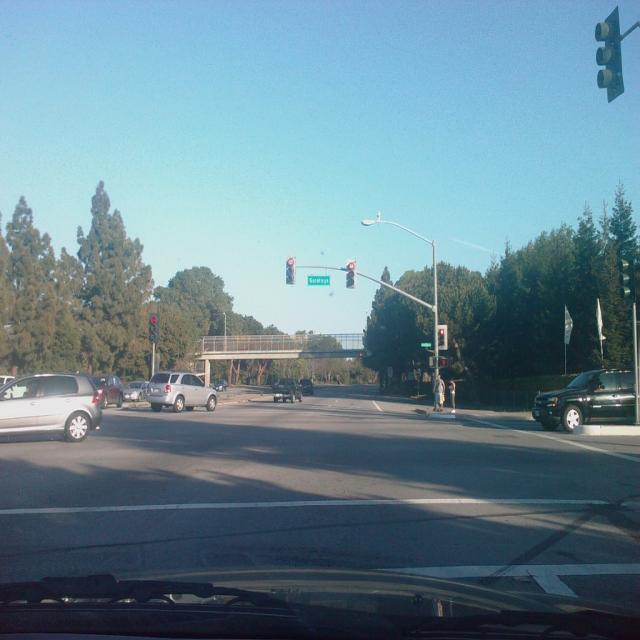traffic light: (346, 261, 356, 288), (286, 257, 295, 284), (149, 314, 158, 340), (438, 328, 445, 346)
